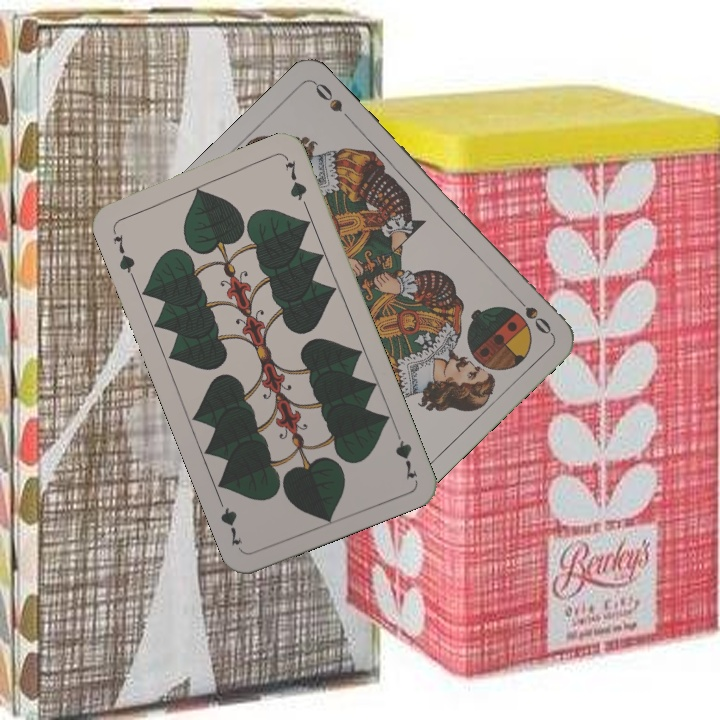G7: (108, 224, 138, 281), (391, 424, 420, 482)
SO: (509, 290, 555, 338)
